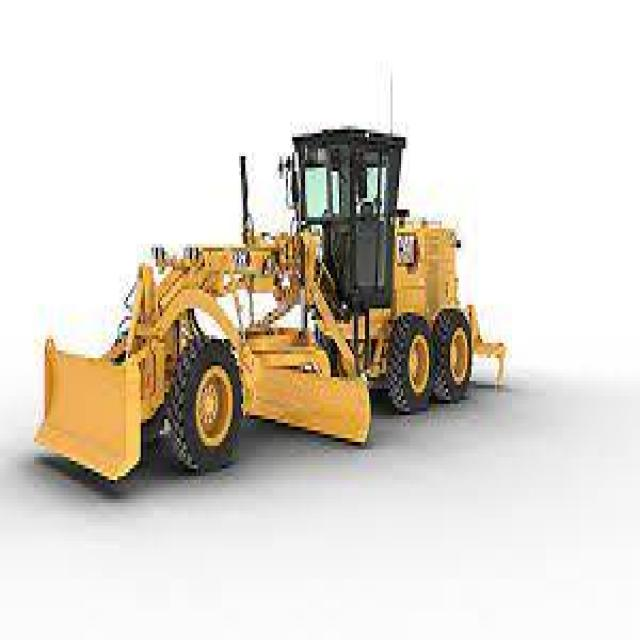buldozerpayloadergrader: (36, 95, 523, 495)
